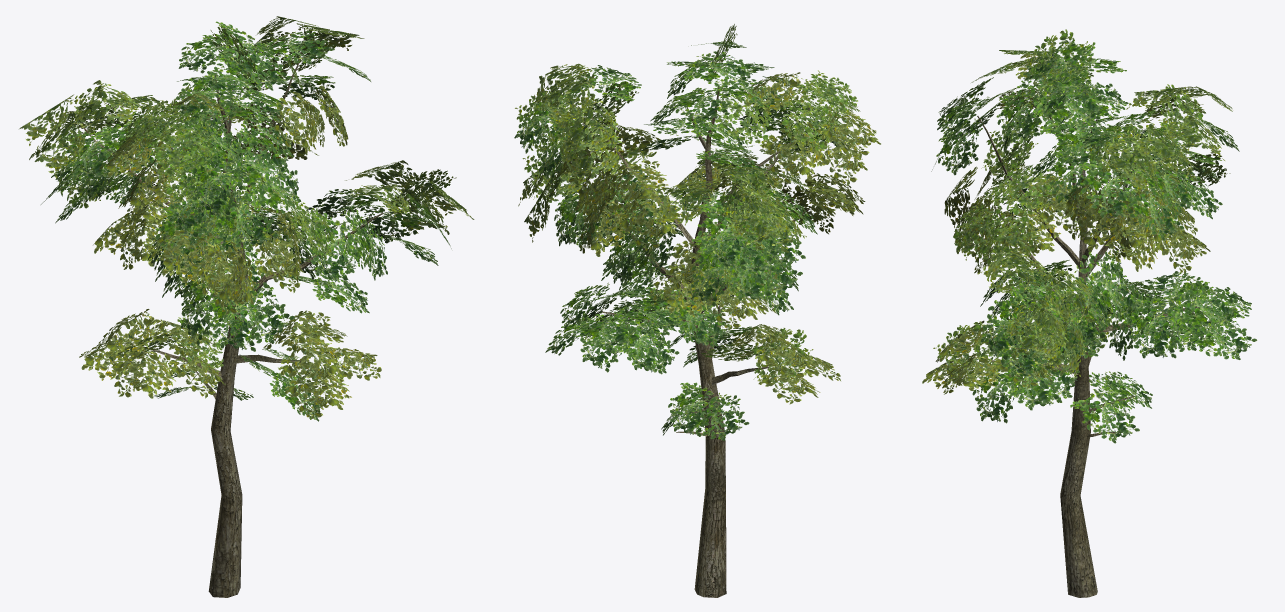
The model's file is tree1b_lod1.gltf.
3 renders of one model, left to right at view 1: azimuth 30°, elevation 25°; view 2: azimuth 150°, elevation 25°; view 3: azimuth 270°, elevation 25°, orthographic. The views are drawn at different scales.
Visible parts, largest first — view 1: polySurface2291, polySurface810; view 2: polySurface2291, polySurface810; view 3: polySurface2291, polySurface810.
Boxes of the visible parts, x1=… form: polySurface2291: x1=19, y1=16, x2=474, y2=421; polySurface810: x1=83, y1=52, x2=383, y2=597; polySurface2291: x1=514, y1=24, x2=880, y2=440; polySurface810: x1=591, y1=86, x2=814, y2=597; polySurface2291: x1=922, y1=29, x2=1257, y2=443; polySurface810: x1=977, y1=85, x2=1199, y2=597.
Size of the model in its own units: 11.41 by 17.33 by 9.68.
Materials: 2 (2 with a texture image).
